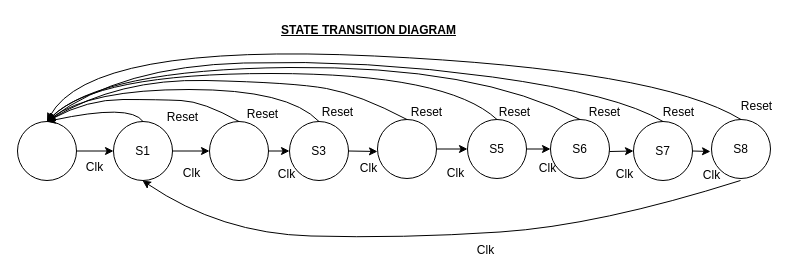
Some shapes in this 798 by 280 pixel diagram are drawn without their labels. The box of each missing label's shape, as (x1, y1, x2, y2) in pixels:
S0: (16, 120, 76, 180)
S2: (208, 120, 268, 180)
S4: (376, 118, 436, 178)
